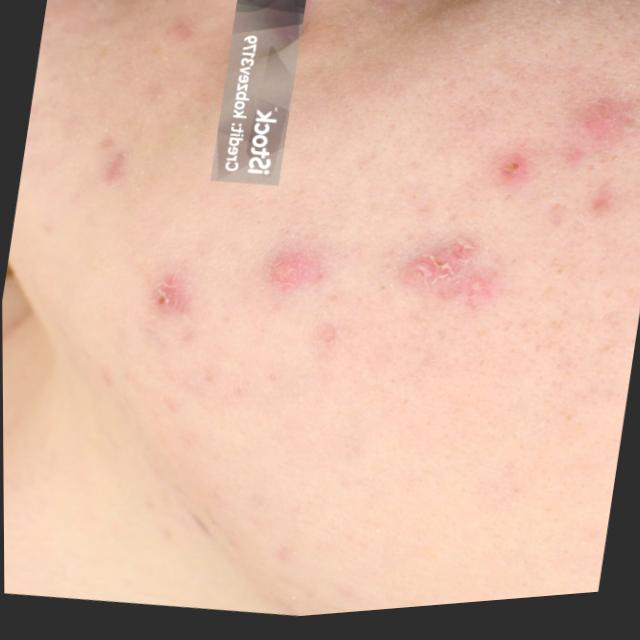papule: (388, 234, 518, 316), (244, 233, 338, 299), (125, 267, 214, 326), (70, 122, 140, 197), (574, 95, 640, 161), (479, 144, 546, 207), (280, 305, 338, 370), (140, 5, 202, 59), (569, 193, 627, 242), (547, 147, 604, 194), (631, 180, 640, 217)
